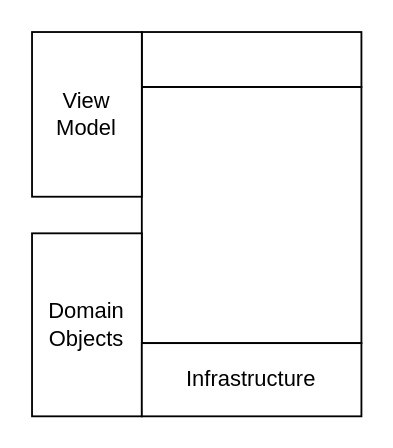
Image size: 393x448. Some labels were removed from this diagram. The shapes that lost their labels are listed below. From the top down, each one's box as (x1, y1, x2, y2) in pixels, then its label:
(140, 30, 361, 87): API
(140, 85, 361, 343): Application
